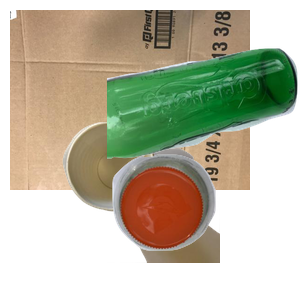cardboard: (10, 10, 250, 190)
glass: (107, 46, 300, 197)
plastic: (110, 152, 300, 300)
trash: (60, 120, 300, 300)
